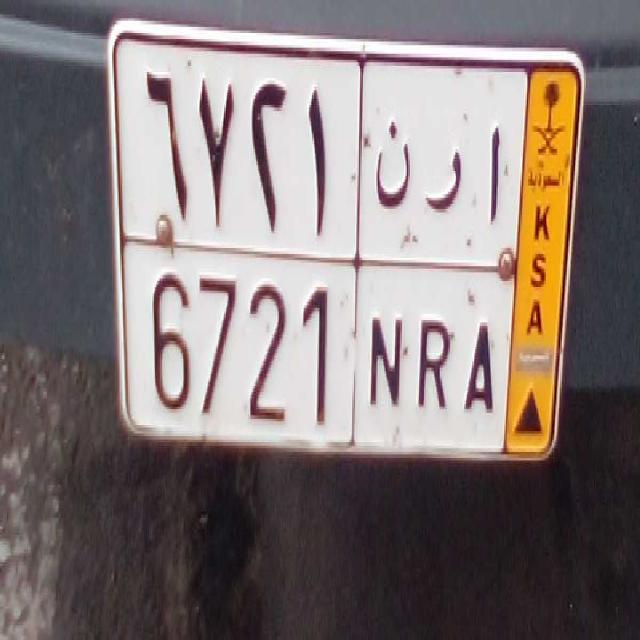license_plate: (120, 236, 511, 452)
